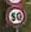limite 50: (4, 6, 26, 25)
